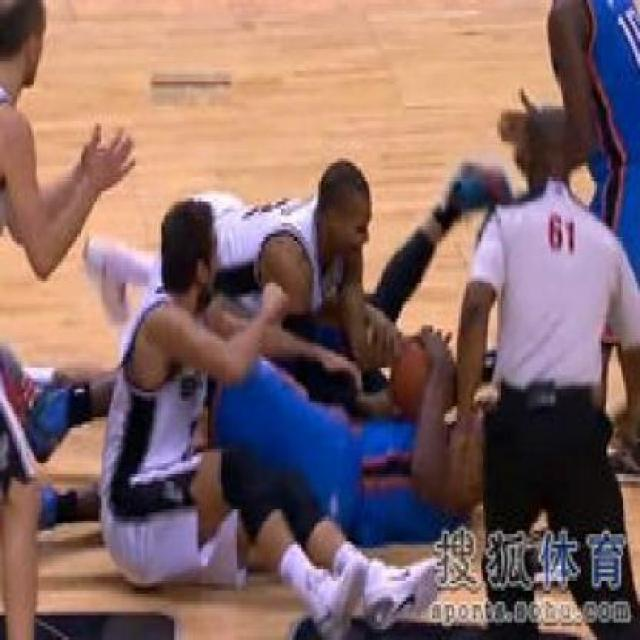fall: (266, 148, 506, 407)
